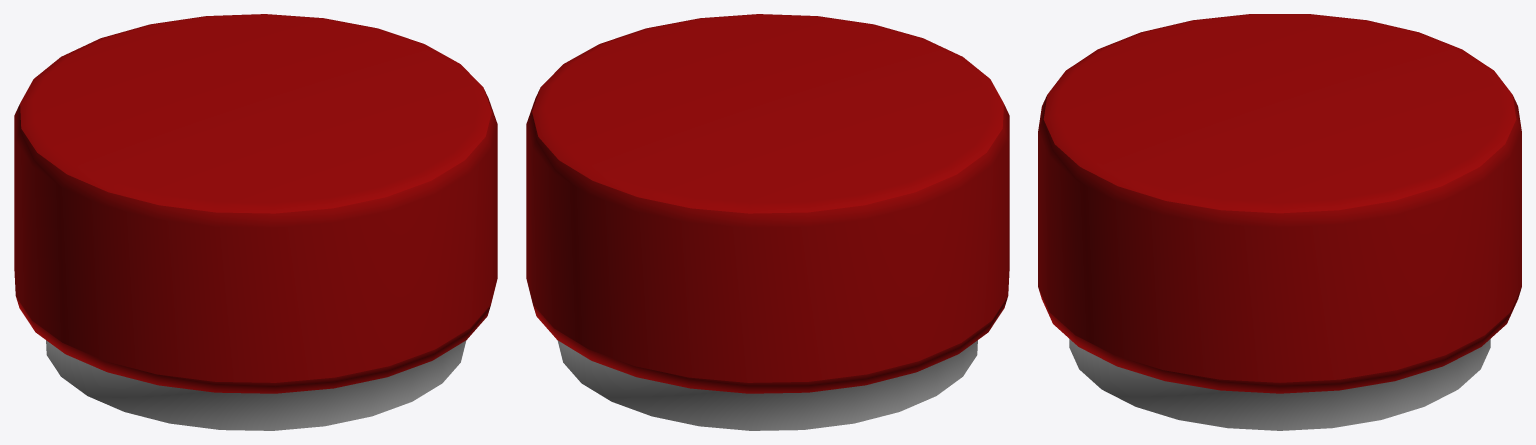
Rendered from WW_FoyetChair_02_Env.fbx.
3 views of the same model, side by side, from view 1: azimuth 30°, elevation 25°; view 2: azimuth 150°, elevation 25°; view 3: azimuth 270°, elevation 25° (orthographic).
Parts seen in each view (by area): view 1: WW_FoyerChair_02_Env; view 2: WW_FoyerChair_02_Env; view 3: WW_FoyerChair_02_Env.
Boxes of the visible parts, x1=… form: WW_FoyerChair_02_Env: x1=14, y1=14, x2=497, y2=430; WW_FoyerChair_02_Env: x1=526, y1=14, x2=1009, y2=430; WW_FoyerChair_02_Env: x1=1038, y1=14, x2=1521, y2=430.
Size of the model in its own units: 119 by 63.21 by 119.
